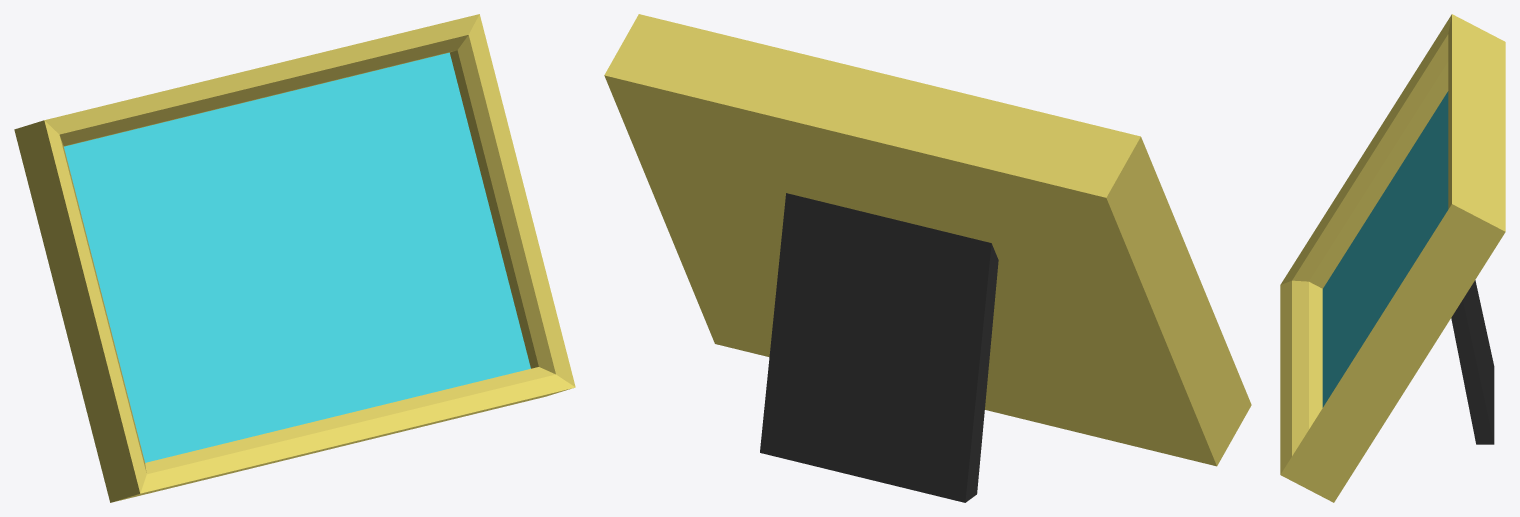
File: TablePicFrame.fbx
3 renders of one model, left to right at view 1: azimuth 30°, elevation 25°; view 2: azimuth 150°, elevation 25°; view 3: azimuth 270°, elevation 25°, orthographic. The views are drawn at different scales.
Parts seen in each view (by area): view 1: IMG, Frame; view 2: Frame, Cube.002; view 3: Frame, IMG, Cube.002.
Part boxes in pixels (x1=…): IMG: x1=64, y1=52, x2=530, y2=462; Frame: x1=14, y1=14, x2=575, y2=502; Frame: x1=604, y1=14, x2=1251, y2=466; Cube.002: x1=760, y1=193, x2=998, y2=502; Frame: x1=1280, y1=14, x2=1505, y2=502; IMG: x1=1322, y1=91, x2=1448, y2=407; Cube.002: x1=1451, y1=280, x2=1494, y2=444.
Size of the model in its own units: 15.19 by 11.15 by 7.62.
